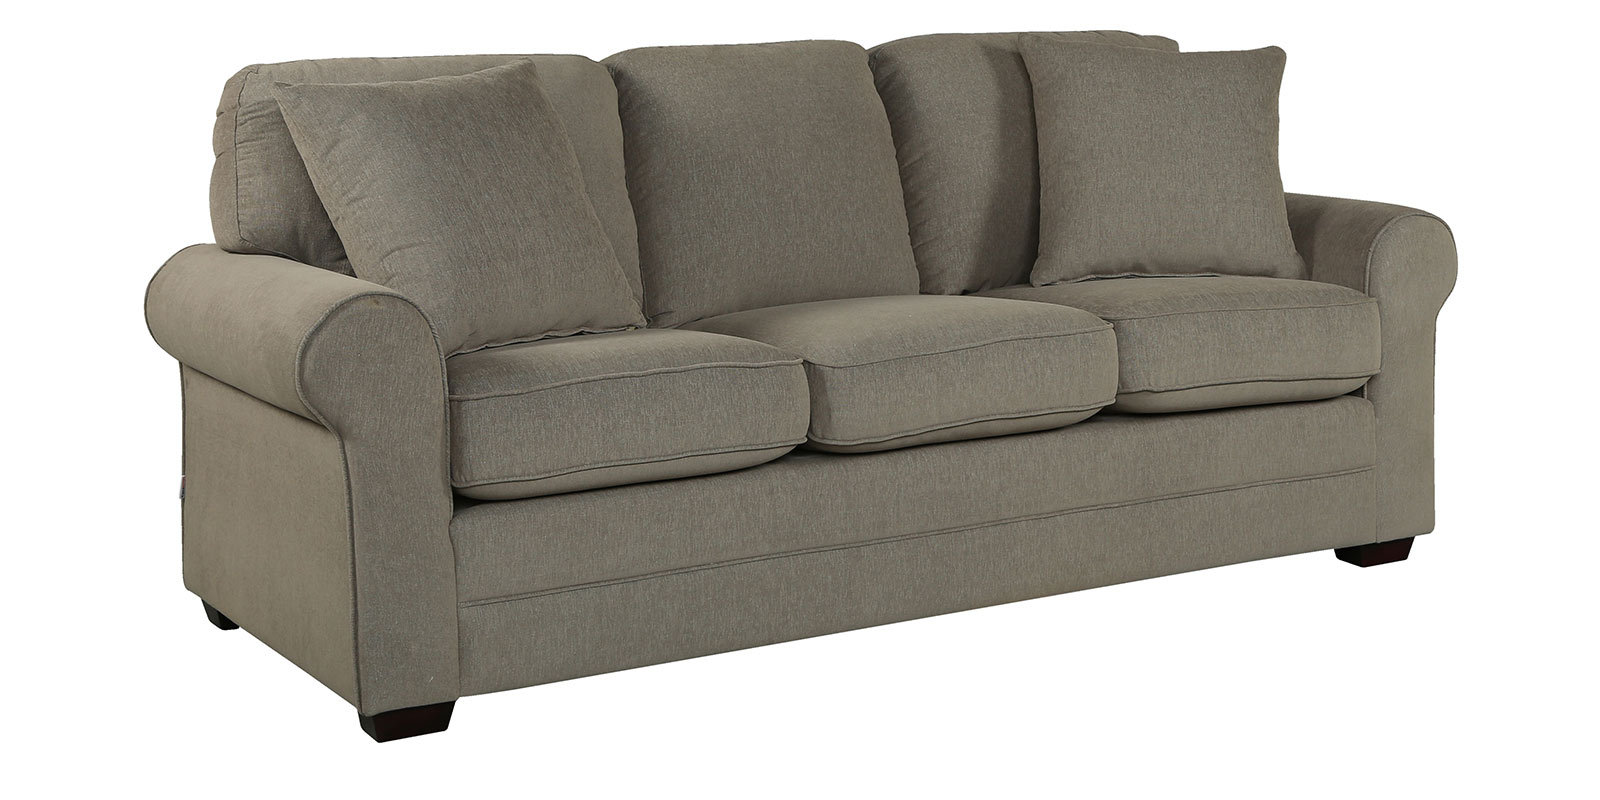Madeira Three Seater Sofa in Sandy Brown Colour by CasaCraft: (144, 29, 1459, 741)
